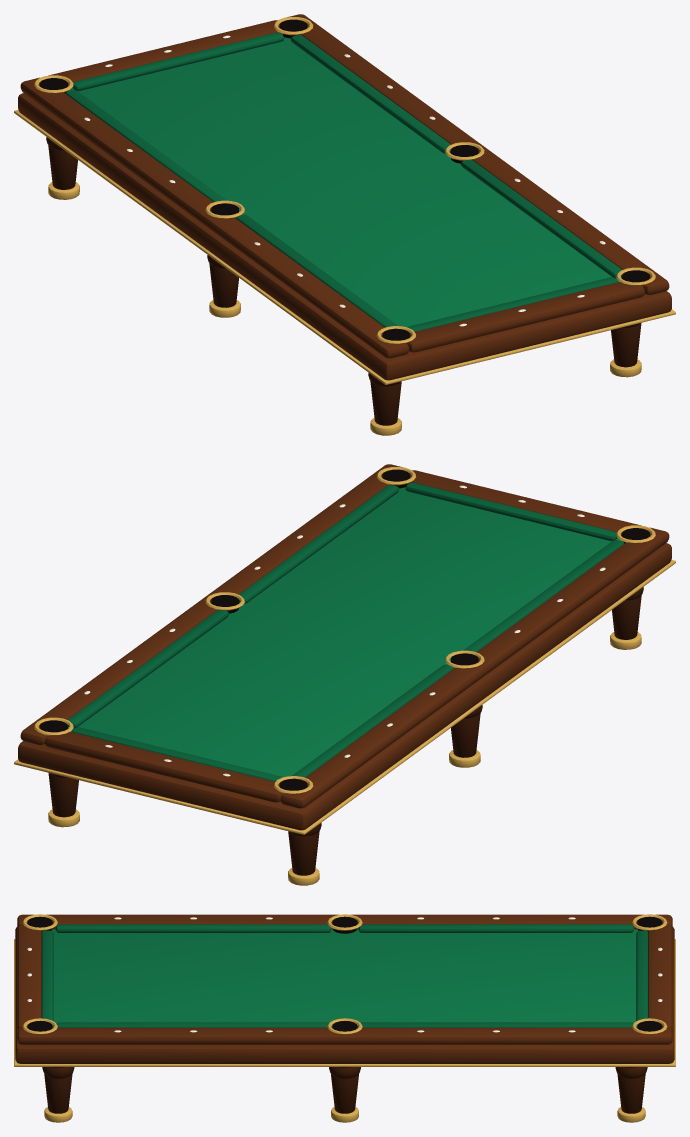
The model's file is PlazaTable5.fbx.
3 renders of one model, top to bottom at view 1: azimuth 30°, elevation 25°; view 2: azimuth 150°, elevation 25°; view 3: azimuth 270°, elevation 25°, orthographic. The views are drawn at different scales.
Visible parts, largest first — view 1: PlazaTable5; view 2: PlazaTable5; view 3: PlazaTable5.
Part boxes in pixels (<box>): PlazaTable5: <box>14,14,675,435</box>; PlazaTable5: <box>14,464,675,885</box>; PlazaTable5: <box>14,914,675,1122</box>.
Size of the model in its own units: 962 by 326 by 2132.
